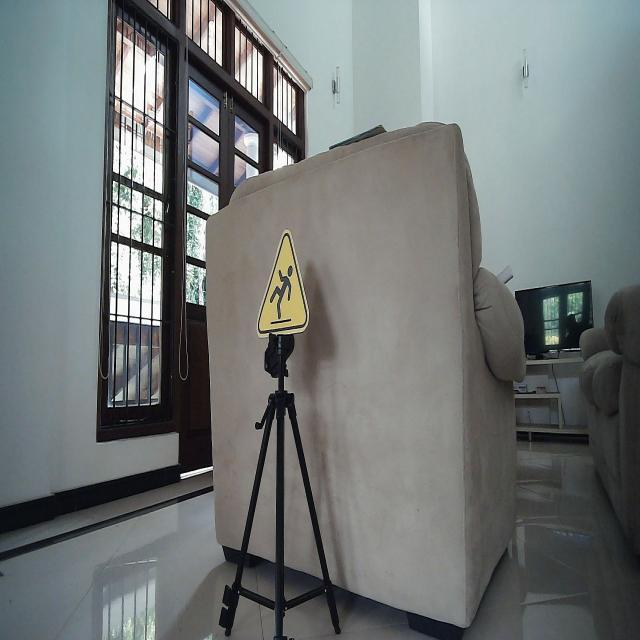slippery_sign: (254, 228, 312, 338)
